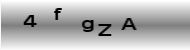4: (23, 13, 37, 27)
A: (120, 16, 137, 31)
Z: (96, 22, 113, 37)
f: (52, 6, 62, 21)
g: (81, 18, 94, 32)
